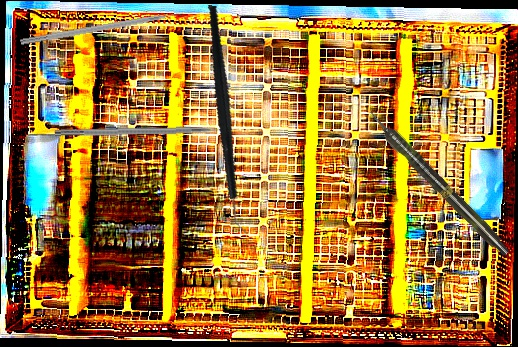Chopper: (155, 4, 304, 235), (20, 9, 192, 54)
Handpiece: (364, 106, 513, 260)
Hook Surgical: (54, 125, 240, 138)
